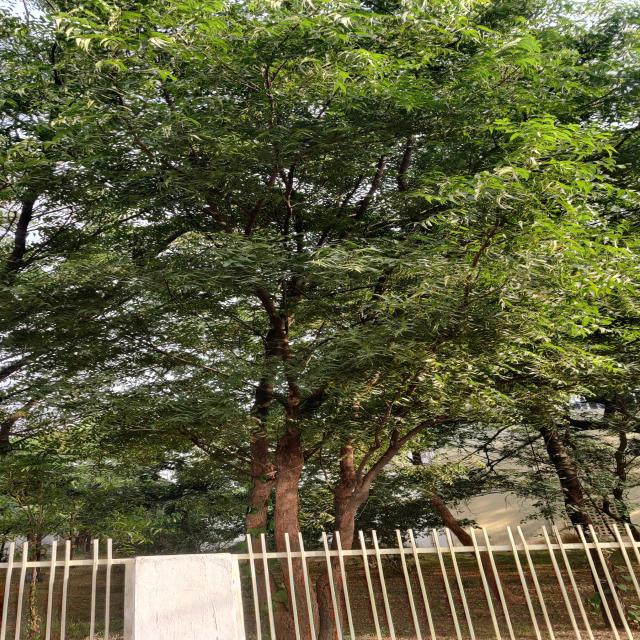Neem Tree: (40, 24, 561, 526)
